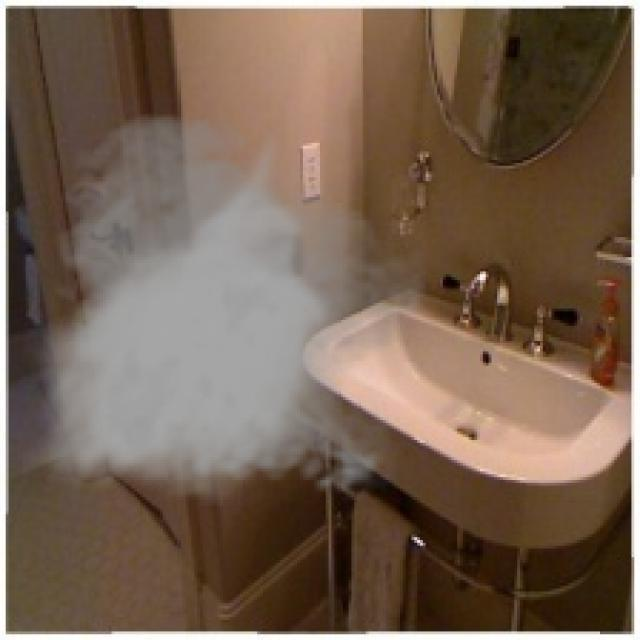Smoke: (23, 108, 426, 506)
